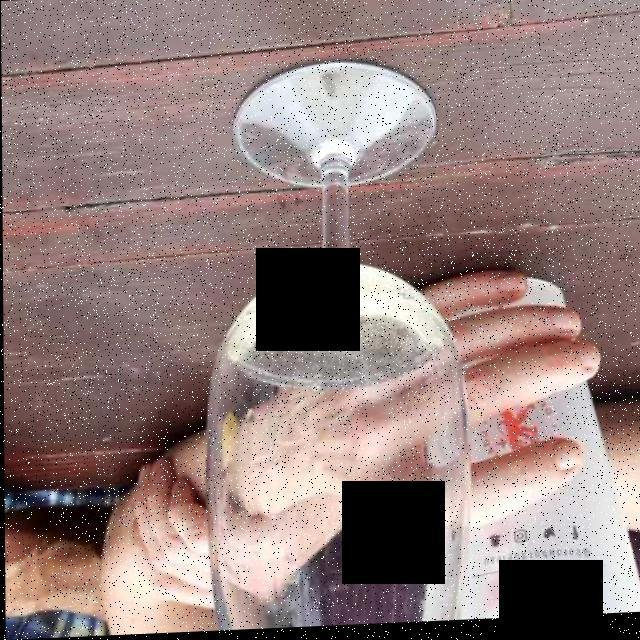wine: (227, 264, 457, 394)
